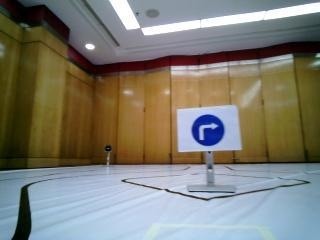right: (179, 110, 243, 148)
